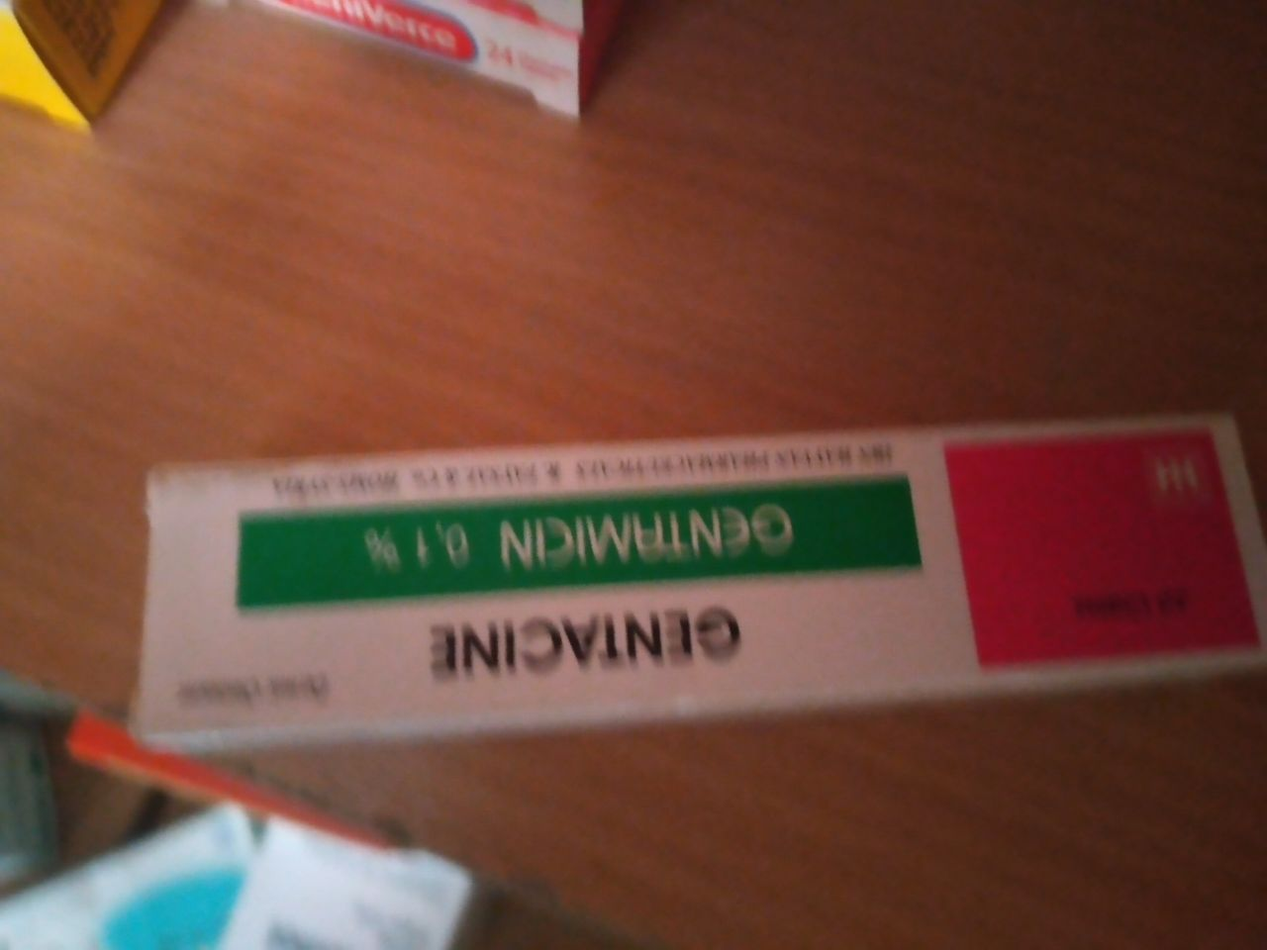Medicine: (141, 416, 1260, 730)
